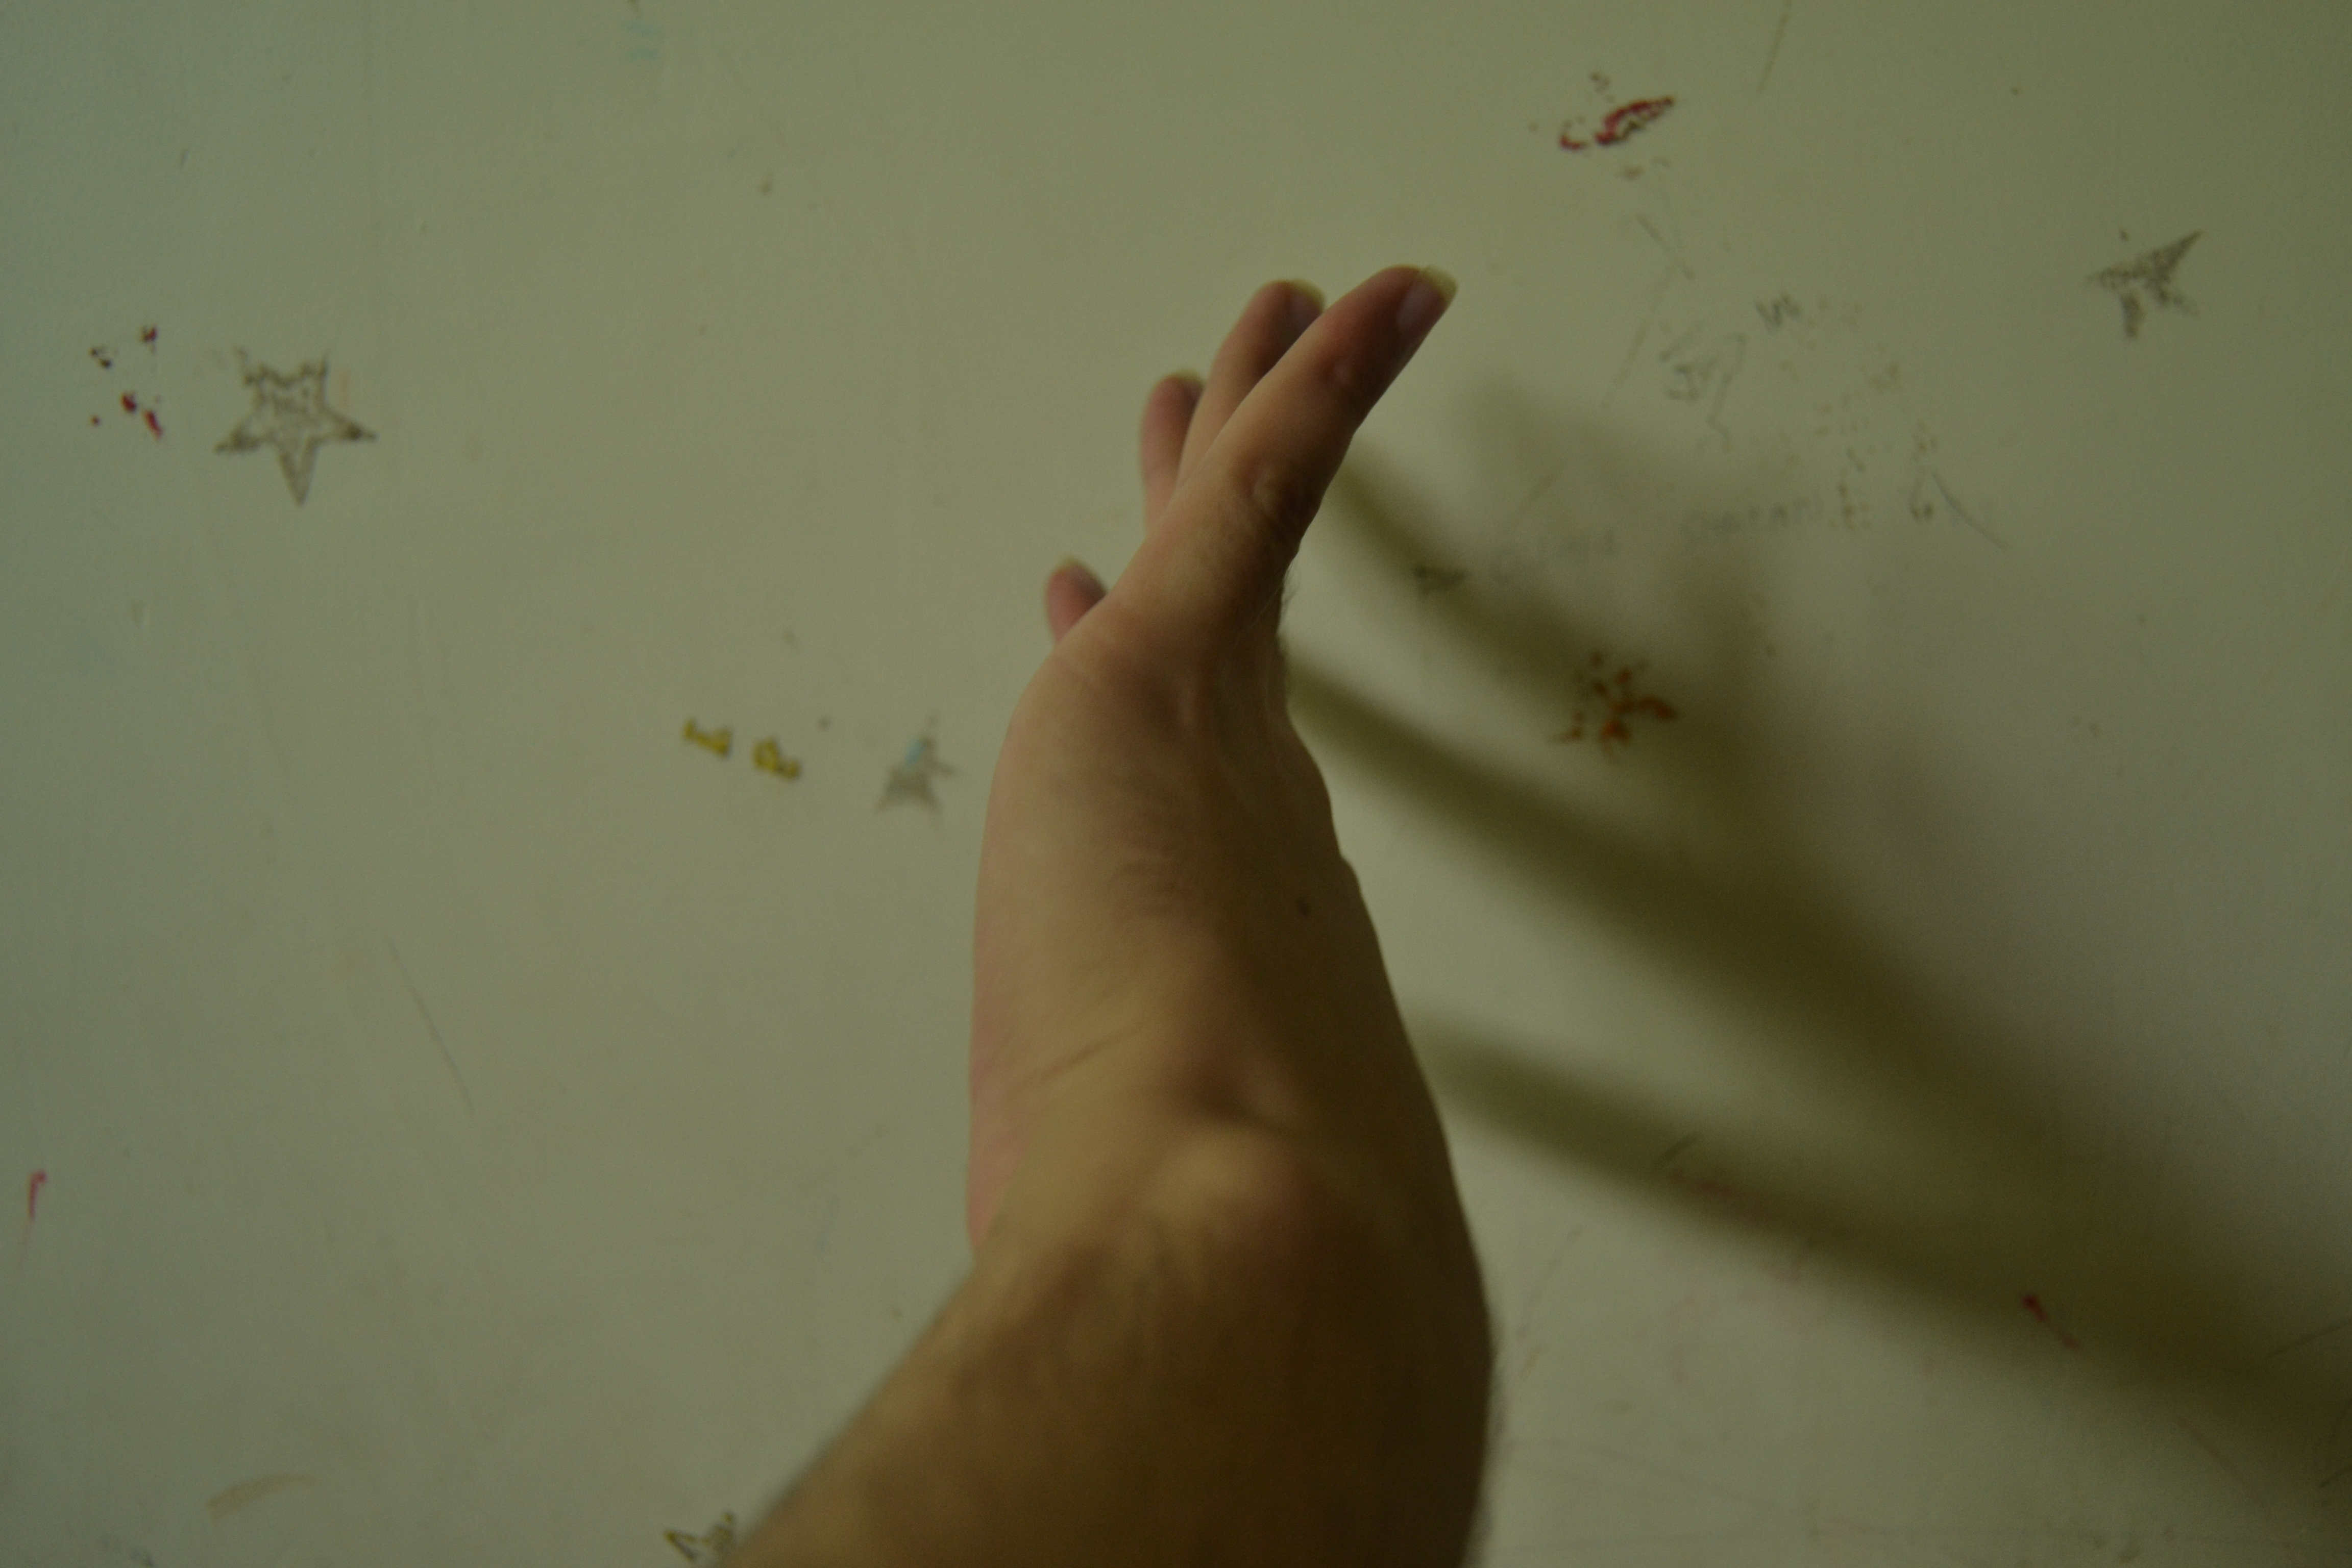move: (989, 168, 1549, 1568)
